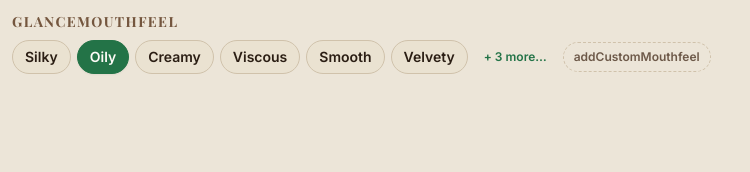
Scenario: Metadata Subcomponents › MouthfeelGlanceSelector › cancels custom mouthfeel input on Escape key
This screenshot has width=750, height=172.
Click the button "addCustomMouthfeel".
click(637, 57)  # box top-left (563, 42), bottom-right (711, 72)
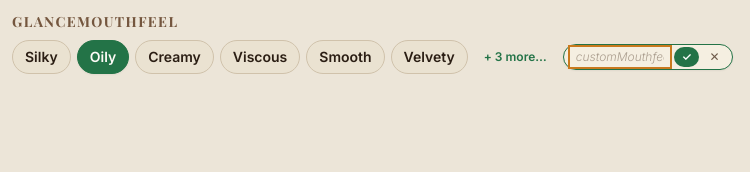
Press Escape in the field with placeholder "customMouthfeelPlaceholder", box top-left (572, 49), bottom-right (668, 65)
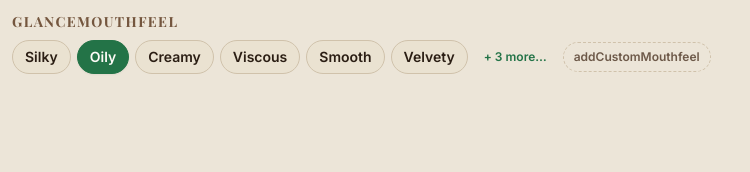
Expected: the field with placeholder "customMouthfeelPlaceholder" is gone
